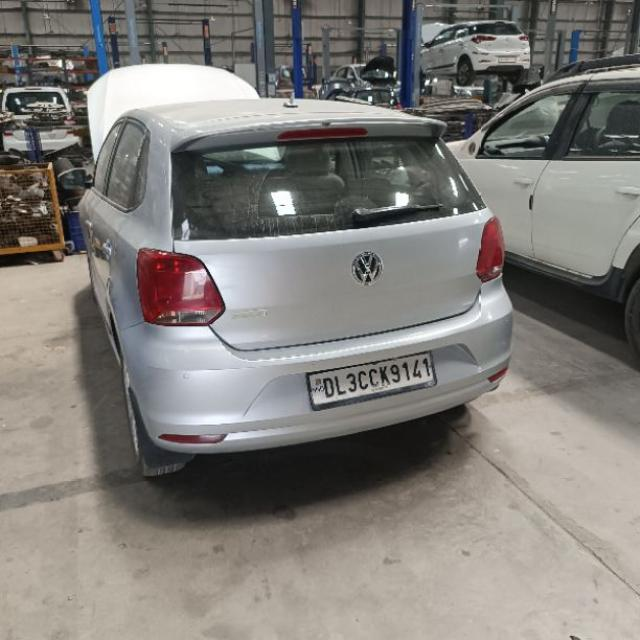license_plate: (304, 349, 437, 410)
